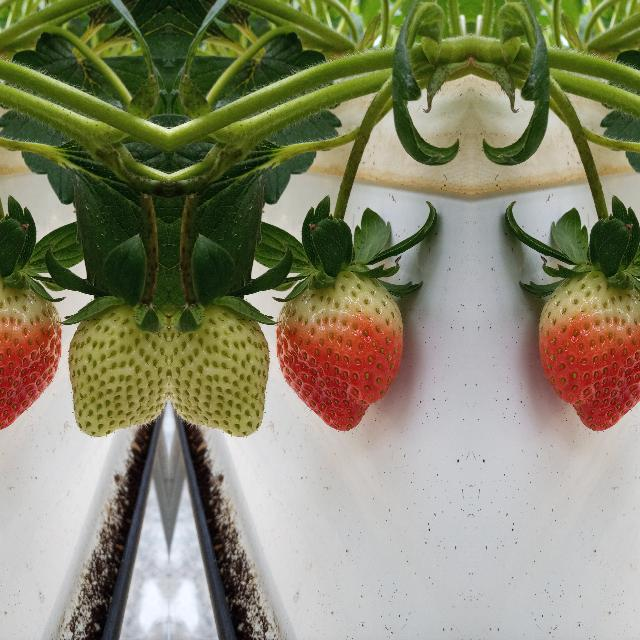Health_25: (168, 300, 276, 448), (60, 300, 168, 448)
Health_75: (274, 264, 406, 432), (535, 264, 640, 431), (0, 264, 61, 431)
